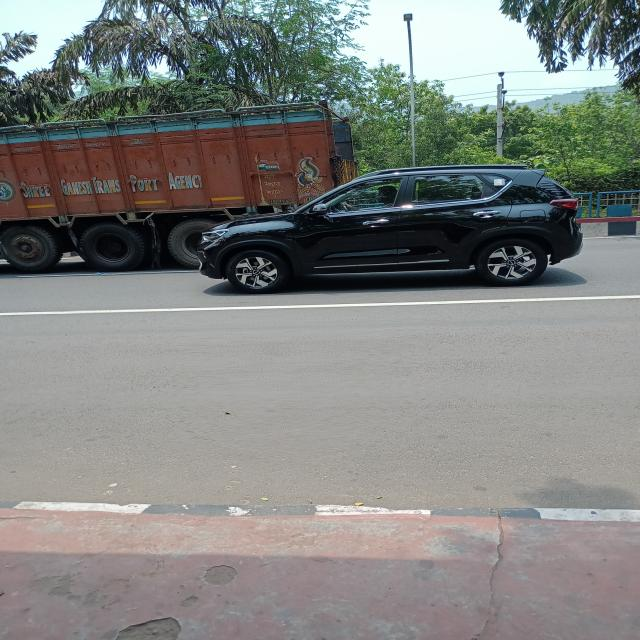car: (203, 155, 606, 302)
